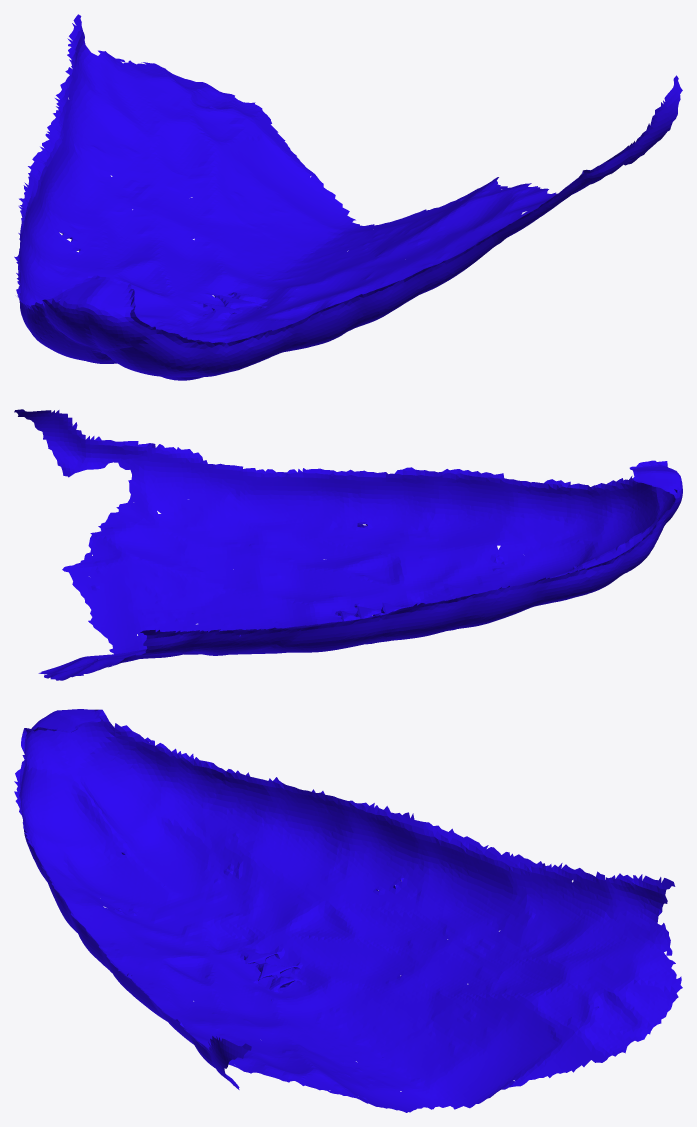
Rendered from zone2-serpent-blue.gltf.
The picture shows the model from 3 angles, top to bottom: view 1: azimuth 30°, elevation 25°; view 2: azimuth 150°, elevation 25°; view 3: azimuth 270°, elevation 25°; orthographic projection. The views are drawn at different scales.
Parts seen in each view (by area): view 1: imagetostl_mesh; view 2: imagetostl_mesh; view 3: imagetostl_mesh.
Part boxes in pixels (x1,y1,x2,y2): imagetostl_mesh: [14, 14, 682, 380]; imagetostl_mesh: [14, 409, 682, 680]; imagetostl_mesh: [14, 709, 682, 1112].
Size of the model in its own units: 13.55 by 3.47 by 11.58.
